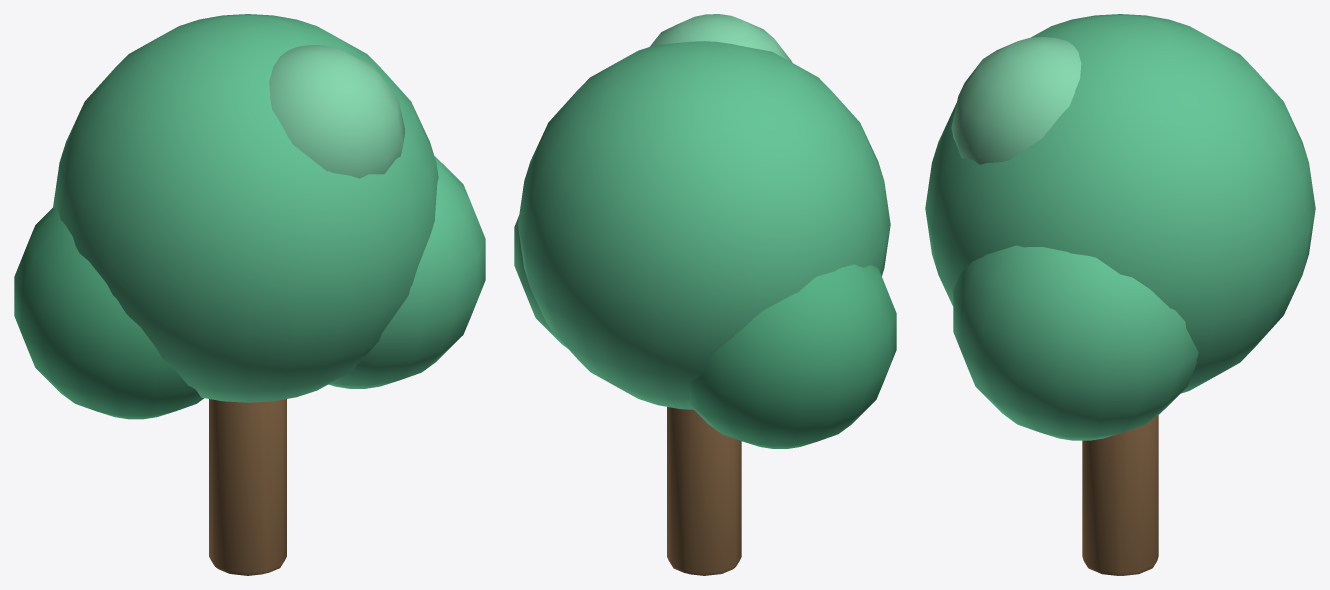
Rendered from tree_round.glb.
3 views of the same model, side by side, from view 1: azimuth 30°, elevation 25°; view 2: azimuth 150°, elevation 25°; view 3: azimuth 270°, elevation 25° (orthographic). The views are drawn at different scales.
Visible parts, largest first — view 1: Tree; view 2: Tree; view 3: Tree.
Boxes of the visible parts, x1,y1,x2,y2 form: Tree: [14, 14, 485, 575]; Tree: [514, 14, 896, 575]; Tree: [925, 14, 1315, 575].
Bounding box in the file's own units: 0.7082 × 0.9 × 0.6.
